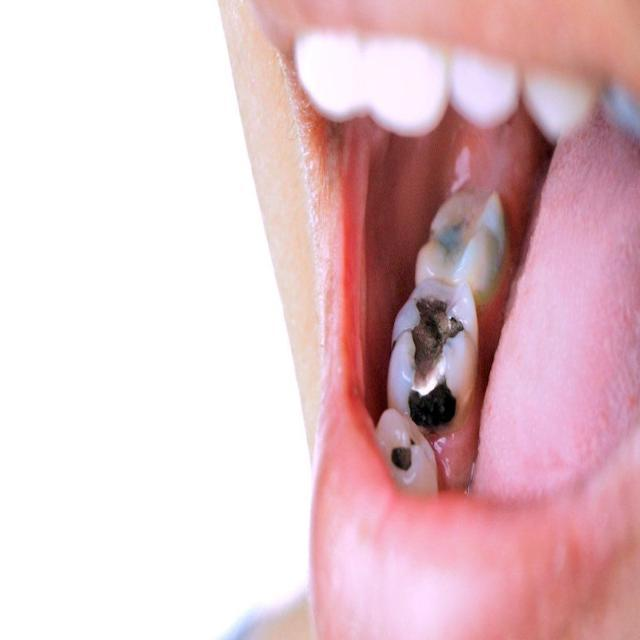Cavity: (405, 281, 472, 425), (426, 171, 486, 279), (377, 412, 432, 480)
